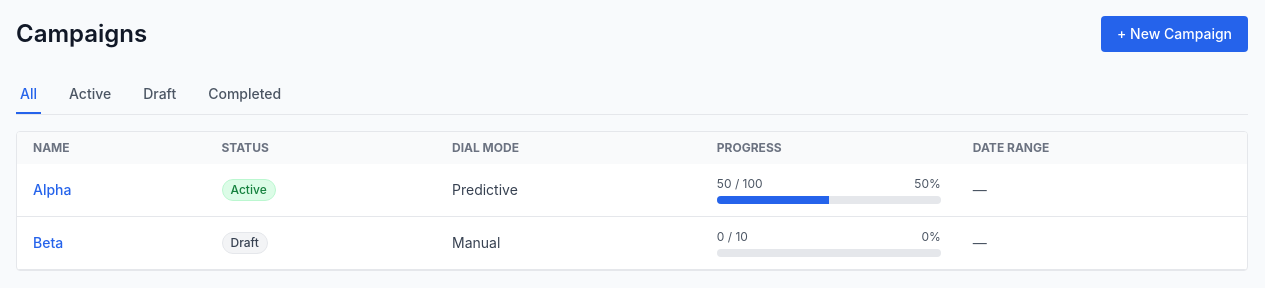
Test: CampaignsPage › filters to active when Active tab clicked
The image size is (1265, 288).
Expected: the link "Alpha" is shown, [33,181,72,198]
Click the tab "Active" at (90, 95), box [65,76,115,114]
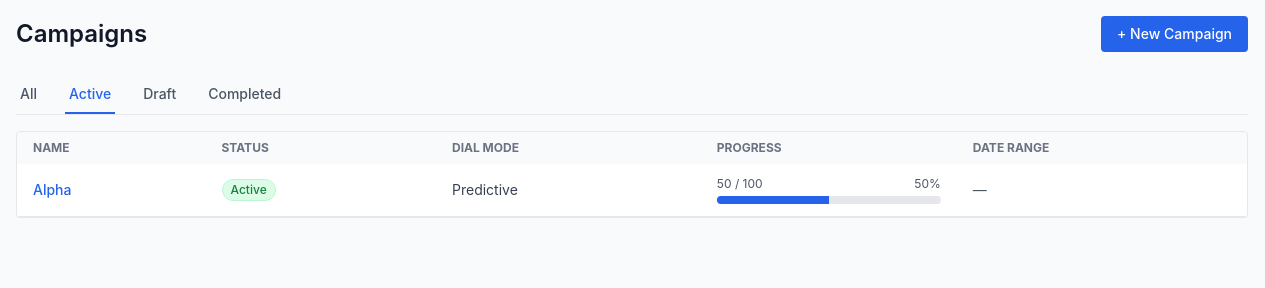
Expected: the link "Alpha" is shown, [33,181,72,198]
Result: the link "Beta" is gone
